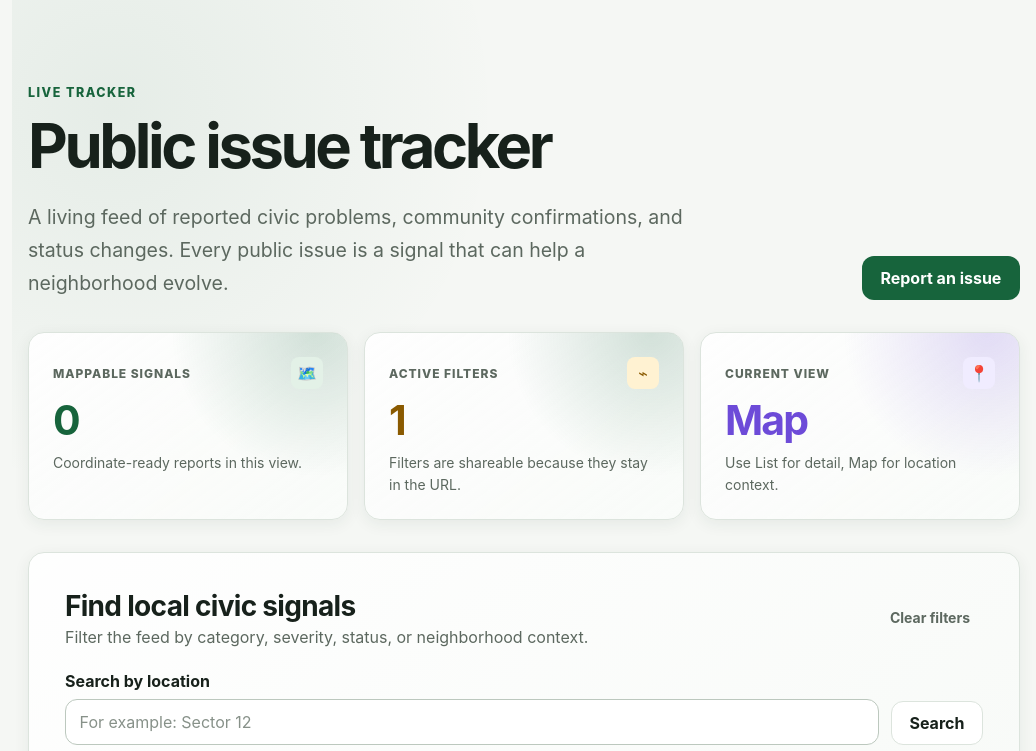
Test: public tracker › shows empty map results and clears filters without leaving map view
This screenshot has width=1036, height=751.
Click the button "Clear filters" at (930, 618), box [877, 600, 983, 636]
(page scrolled)
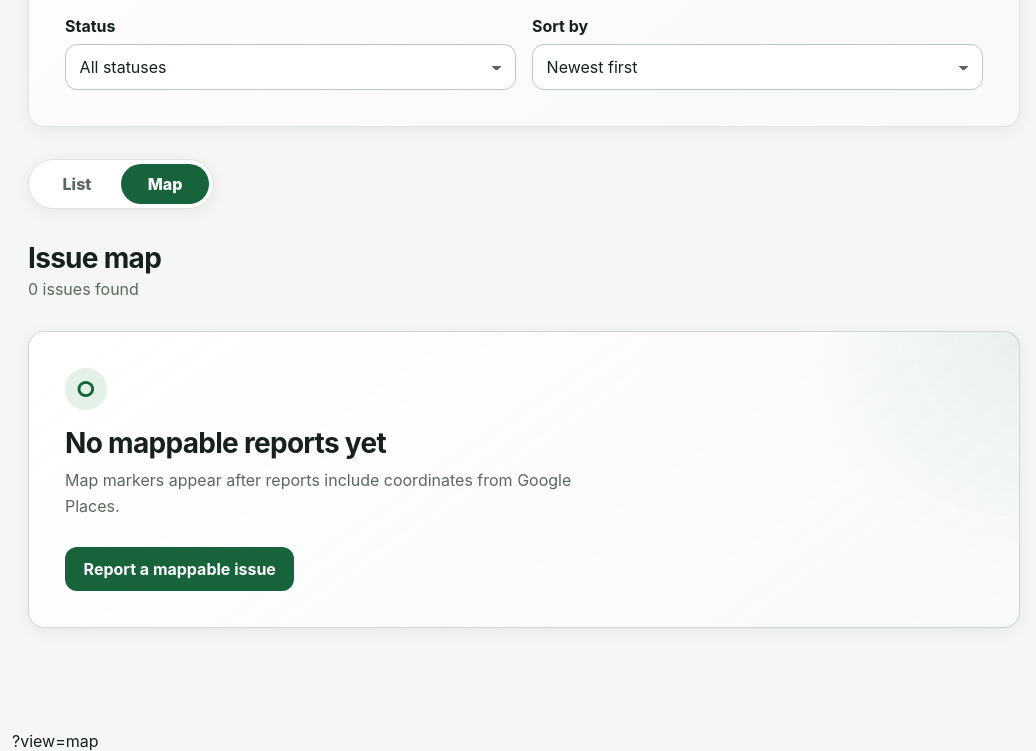
Expected: the text with test id "current-search" reads "?view=map", [12, 730, 99, 750]
